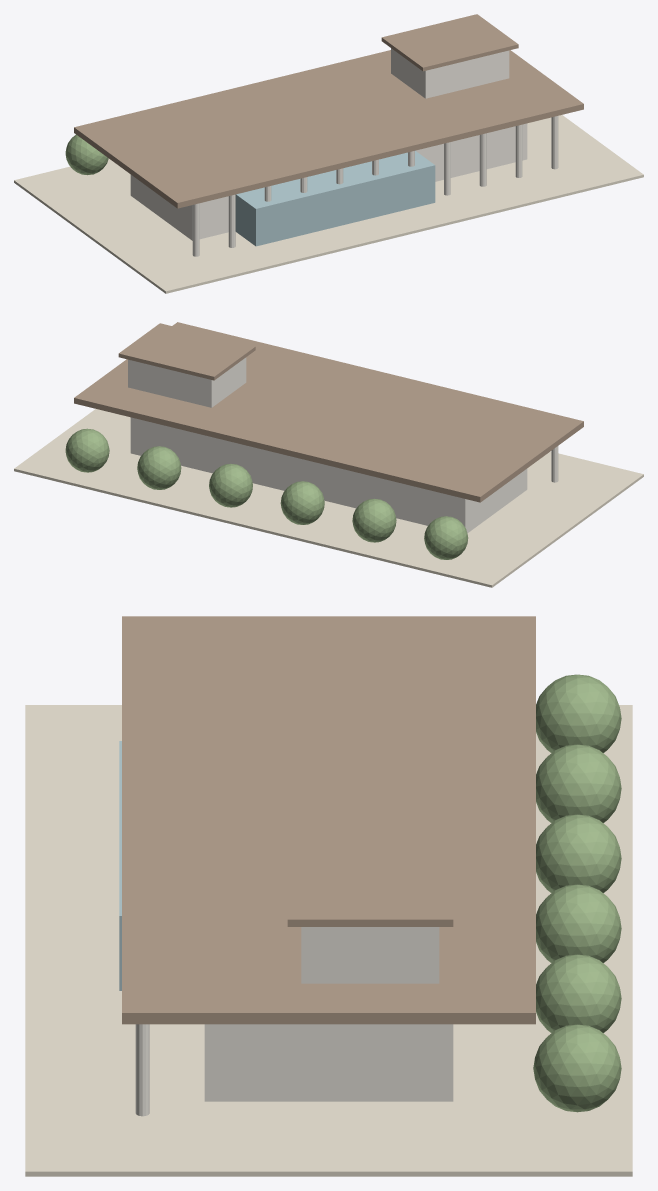
The model's file is visitor-center.glb.
3 renders of one model, top to bottom at view 1: azimuth 30°, elevation 25°; view 2: azimuth 150°, elevation 25°; view 3: azimuth 270°, elevation 25°, orthographic. The views are drawn at different scales.
Parts seen in each view (by area): view 1: visitor-center-3, visitor-center-0, visitor-center-2, visitor-center-1, visitor-center-16, visitor-center-15, visitor-center-17, visitor-center-12, visitor-center-4, visitor-center-5, visitor-center-13, visitor-center-14; view 2: visitor-center-3, visitor-center-0, visitor-center-1, visitor-center-16, visitor-center-15, visitor-center-17, visitor-center-21, visitor-center-18, visitor-center-19, visitor-center-20, visitor-center-22; view 3: visitor-center-3, visitor-center-0, visitor-center-1, visitor-center-16, visitor-center-15, visitor-center-22, visitor-center-18, visitor-center-19, visitor-center-21, visitor-center-17, visitor-center-20, visitor-center-14.
Part boxes in pixels (x1,y1,x2,y2): visitor-center-3: (74, 50, 583, 208); visitor-center-0: (14, 115, 643, 293); visitor-center-2: (235, 150, 435, 246); visitor-center-1: (130, 123, 527, 240); visitor-center-16: (381, 14, 518, 71); visitor-center-15: (391, 48, 509, 98); visitor-center-17: (65, 134, 108, 175); visitor-center-12: (479, 133, 486, 186); visitor-center-4: (192, 203, 199, 256); visitor-center-5: (228, 194, 235, 247); visitor-center-13: (515, 124, 522, 177); visitor-center-14: (551, 116, 558, 169); visitor-center-3: (74, 322, 583, 502); visitor-center-0: (14, 409, 643, 587); visitor-center-1: (130, 417, 527, 533); visitor-center-16: (118, 323, 255, 380); visitor-center-15: (128, 357, 246, 407); visitor-center-17: (424, 516, 468, 559); visitor-center-21: (137, 446, 181, 489); visitor-center-18: (352, 498, 396, 542); visitor-center-19: (280, 481, 324, 524); visitor-center-20: (209, 463, 252, 507); visitor-center-22: (65, 428, 109, 472); visitor-center-3: (122, 616, 535, 1024); visitor-center-0: (25, 705, 632, 1176); visitor-center-1: (204, 1024, 453, 1101); visitor-center-16: (287, 826, 453, 926); visitor-center-15: (301, 927, 439, 983); visitor-center-22: (533, 1024, 621, 1112); visitor-center-18: (536, 744, 621, 822); visitor-center-19: (536, 814, 621, 892); visitor-center-21: (536, 954, 621, 1032); visitor-center-17: (536, 674, 621, 752); visitor-center-20: (536, 884, 621, 962); visitor-center-14: (135, 1024, 149, 1116).
Bounding box in the file's own units: 80 × 15.9 × 44.
